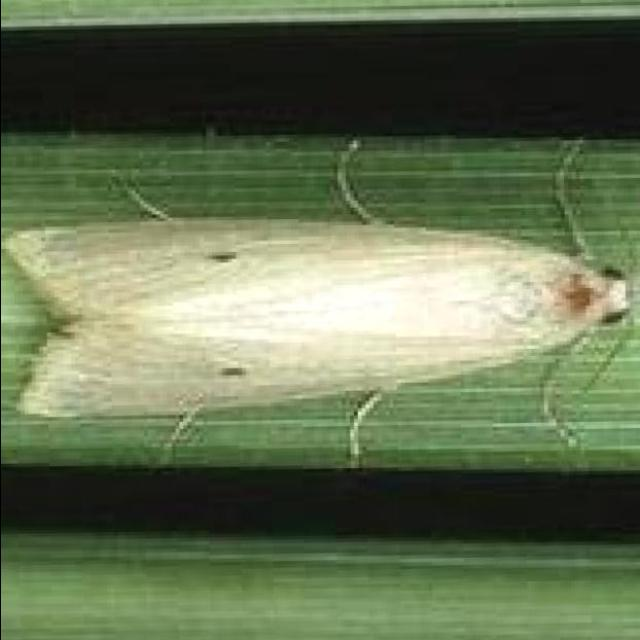stem borer: (3, 138, 635, 464)
